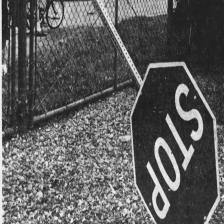Stop-sign: (129, 54, 222, 224)
